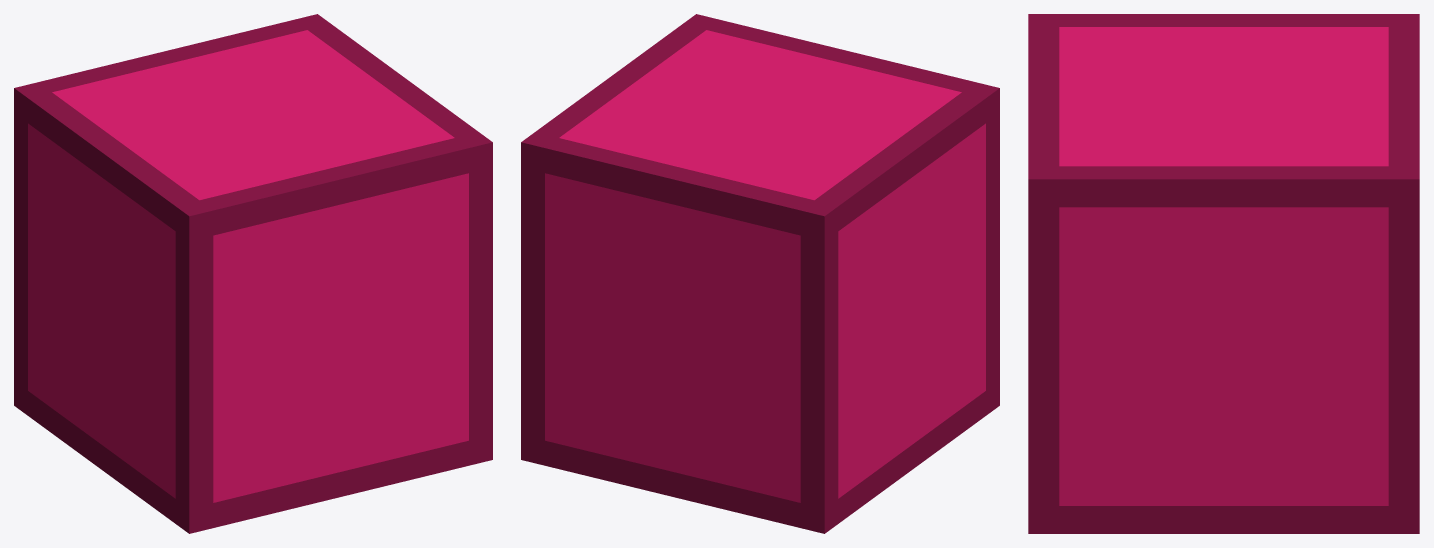
File: coinBlock.glb
3 views of the same model, side by side, from view 1: azimuth 30°, elevation 25°; view 2: azimuth 150°, elevation 25°; view 3: azimuth 270°, elevation 25° (orthographic). The views are drawn at different scales.
Parts seen in each view (by area): view 1: CoinBlock; view 2: CoinBlock; view 3: CoinBlock.
Boxes of the visible parts, bbox=[...] form: CoinBlock: bbox=[14, 14, 492, 533]; CoinBlock: bbox=[521, 14, 999, 533]; CoinBlock: bbox=[1028, 14, 1419, 533].
Bounding box in the file's own units: 2 × 2 × 2.
